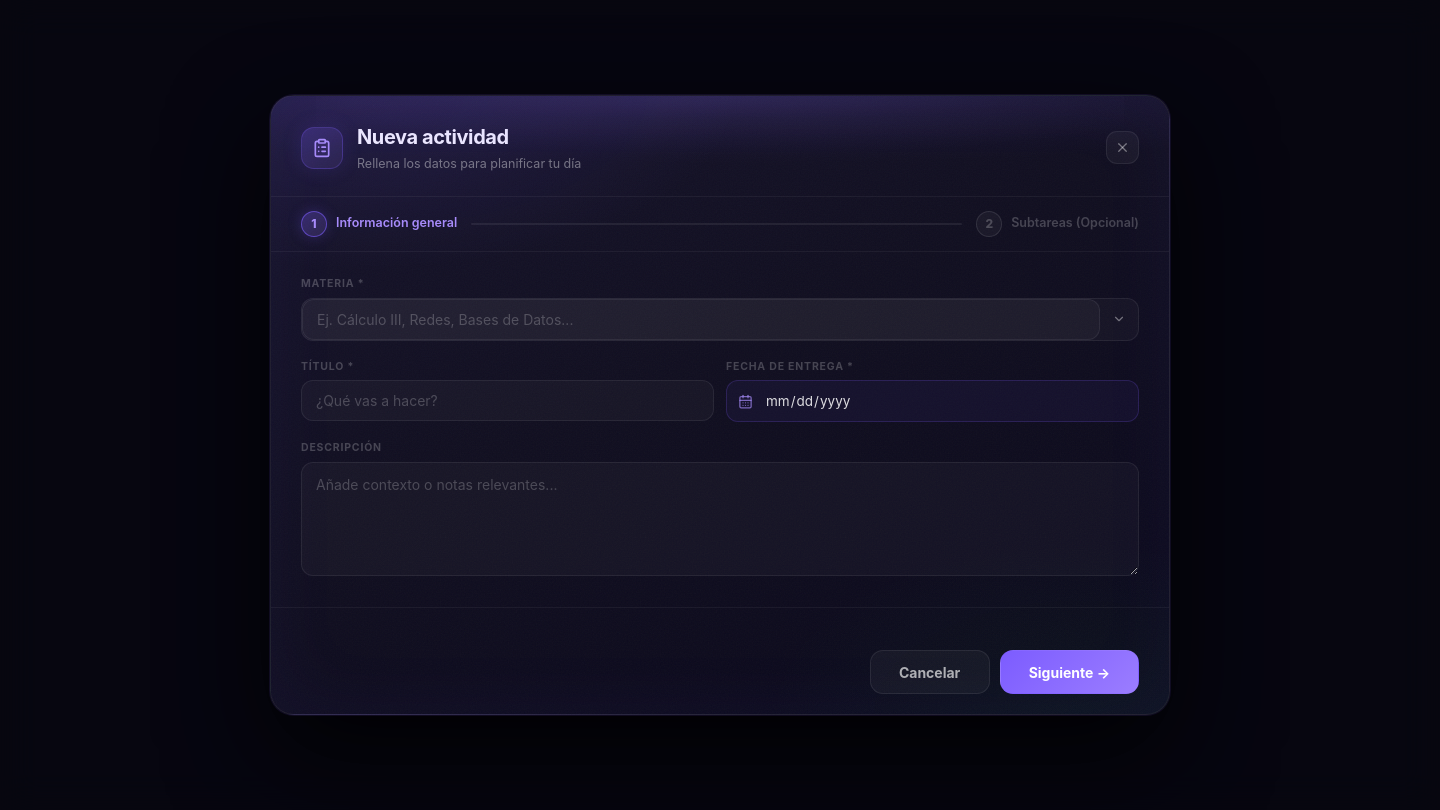
Test: CreateActivityModal — validación y combobox › muestra errores al avanzar sin datos
Click the button with test id "create-activity-next-btn". click: (1069, 672)
box: [1000,650,1139,694]
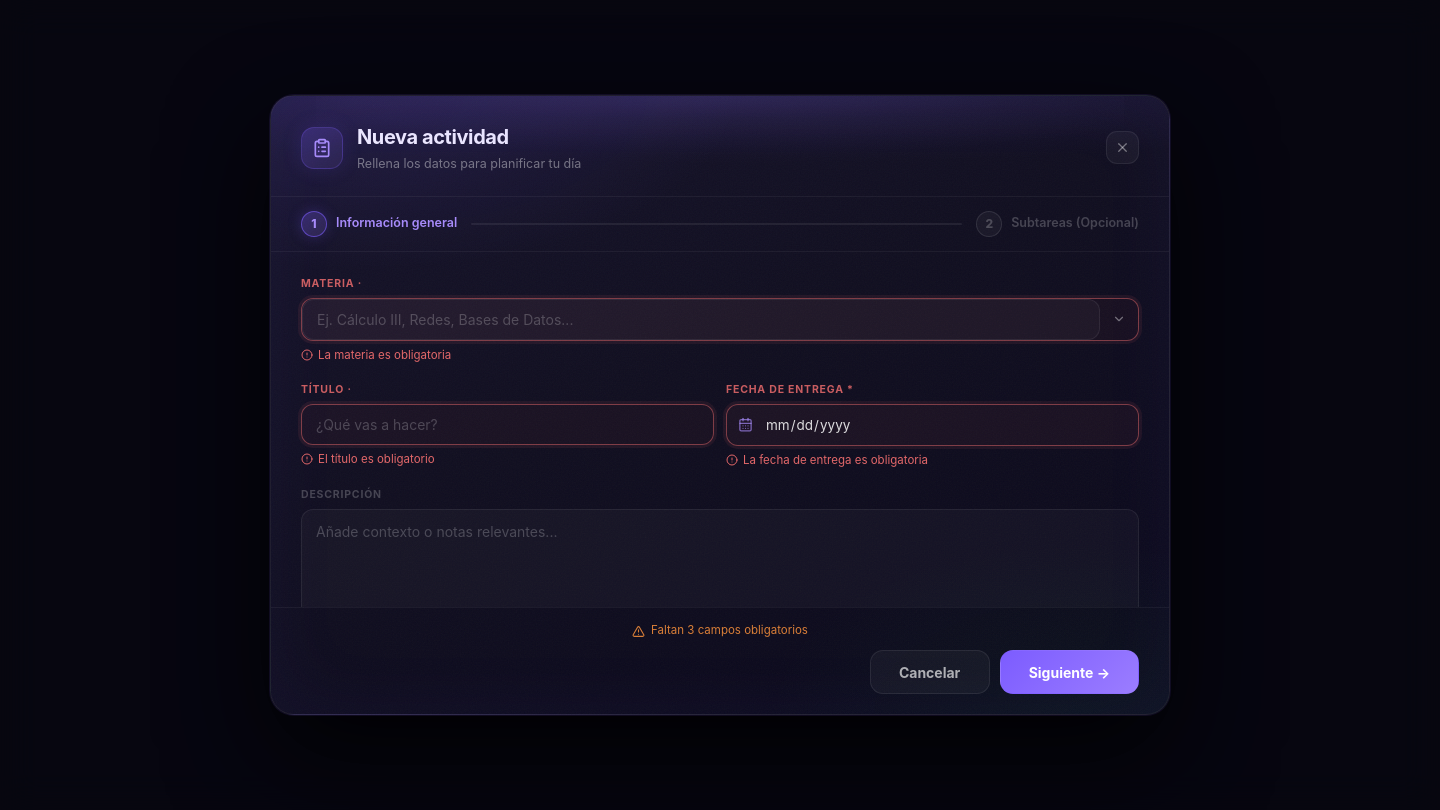
Now the text "La materia es obligatoria" is shown, box [301,348,451,362]
Now the text "El título es obligatorio" is shown, box [301,452,435,466]
